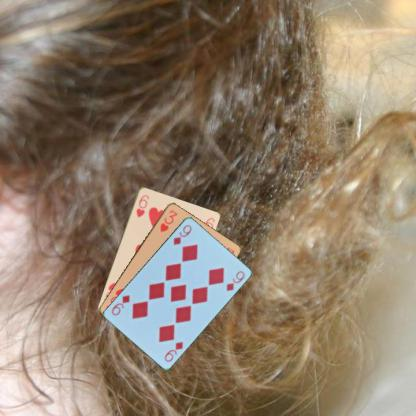3h: (157, 207, 179, 233)
6h: (134, 192, 150, 218)
9d: (170, 222, 193, 246), (162, 338, 184, 363)
